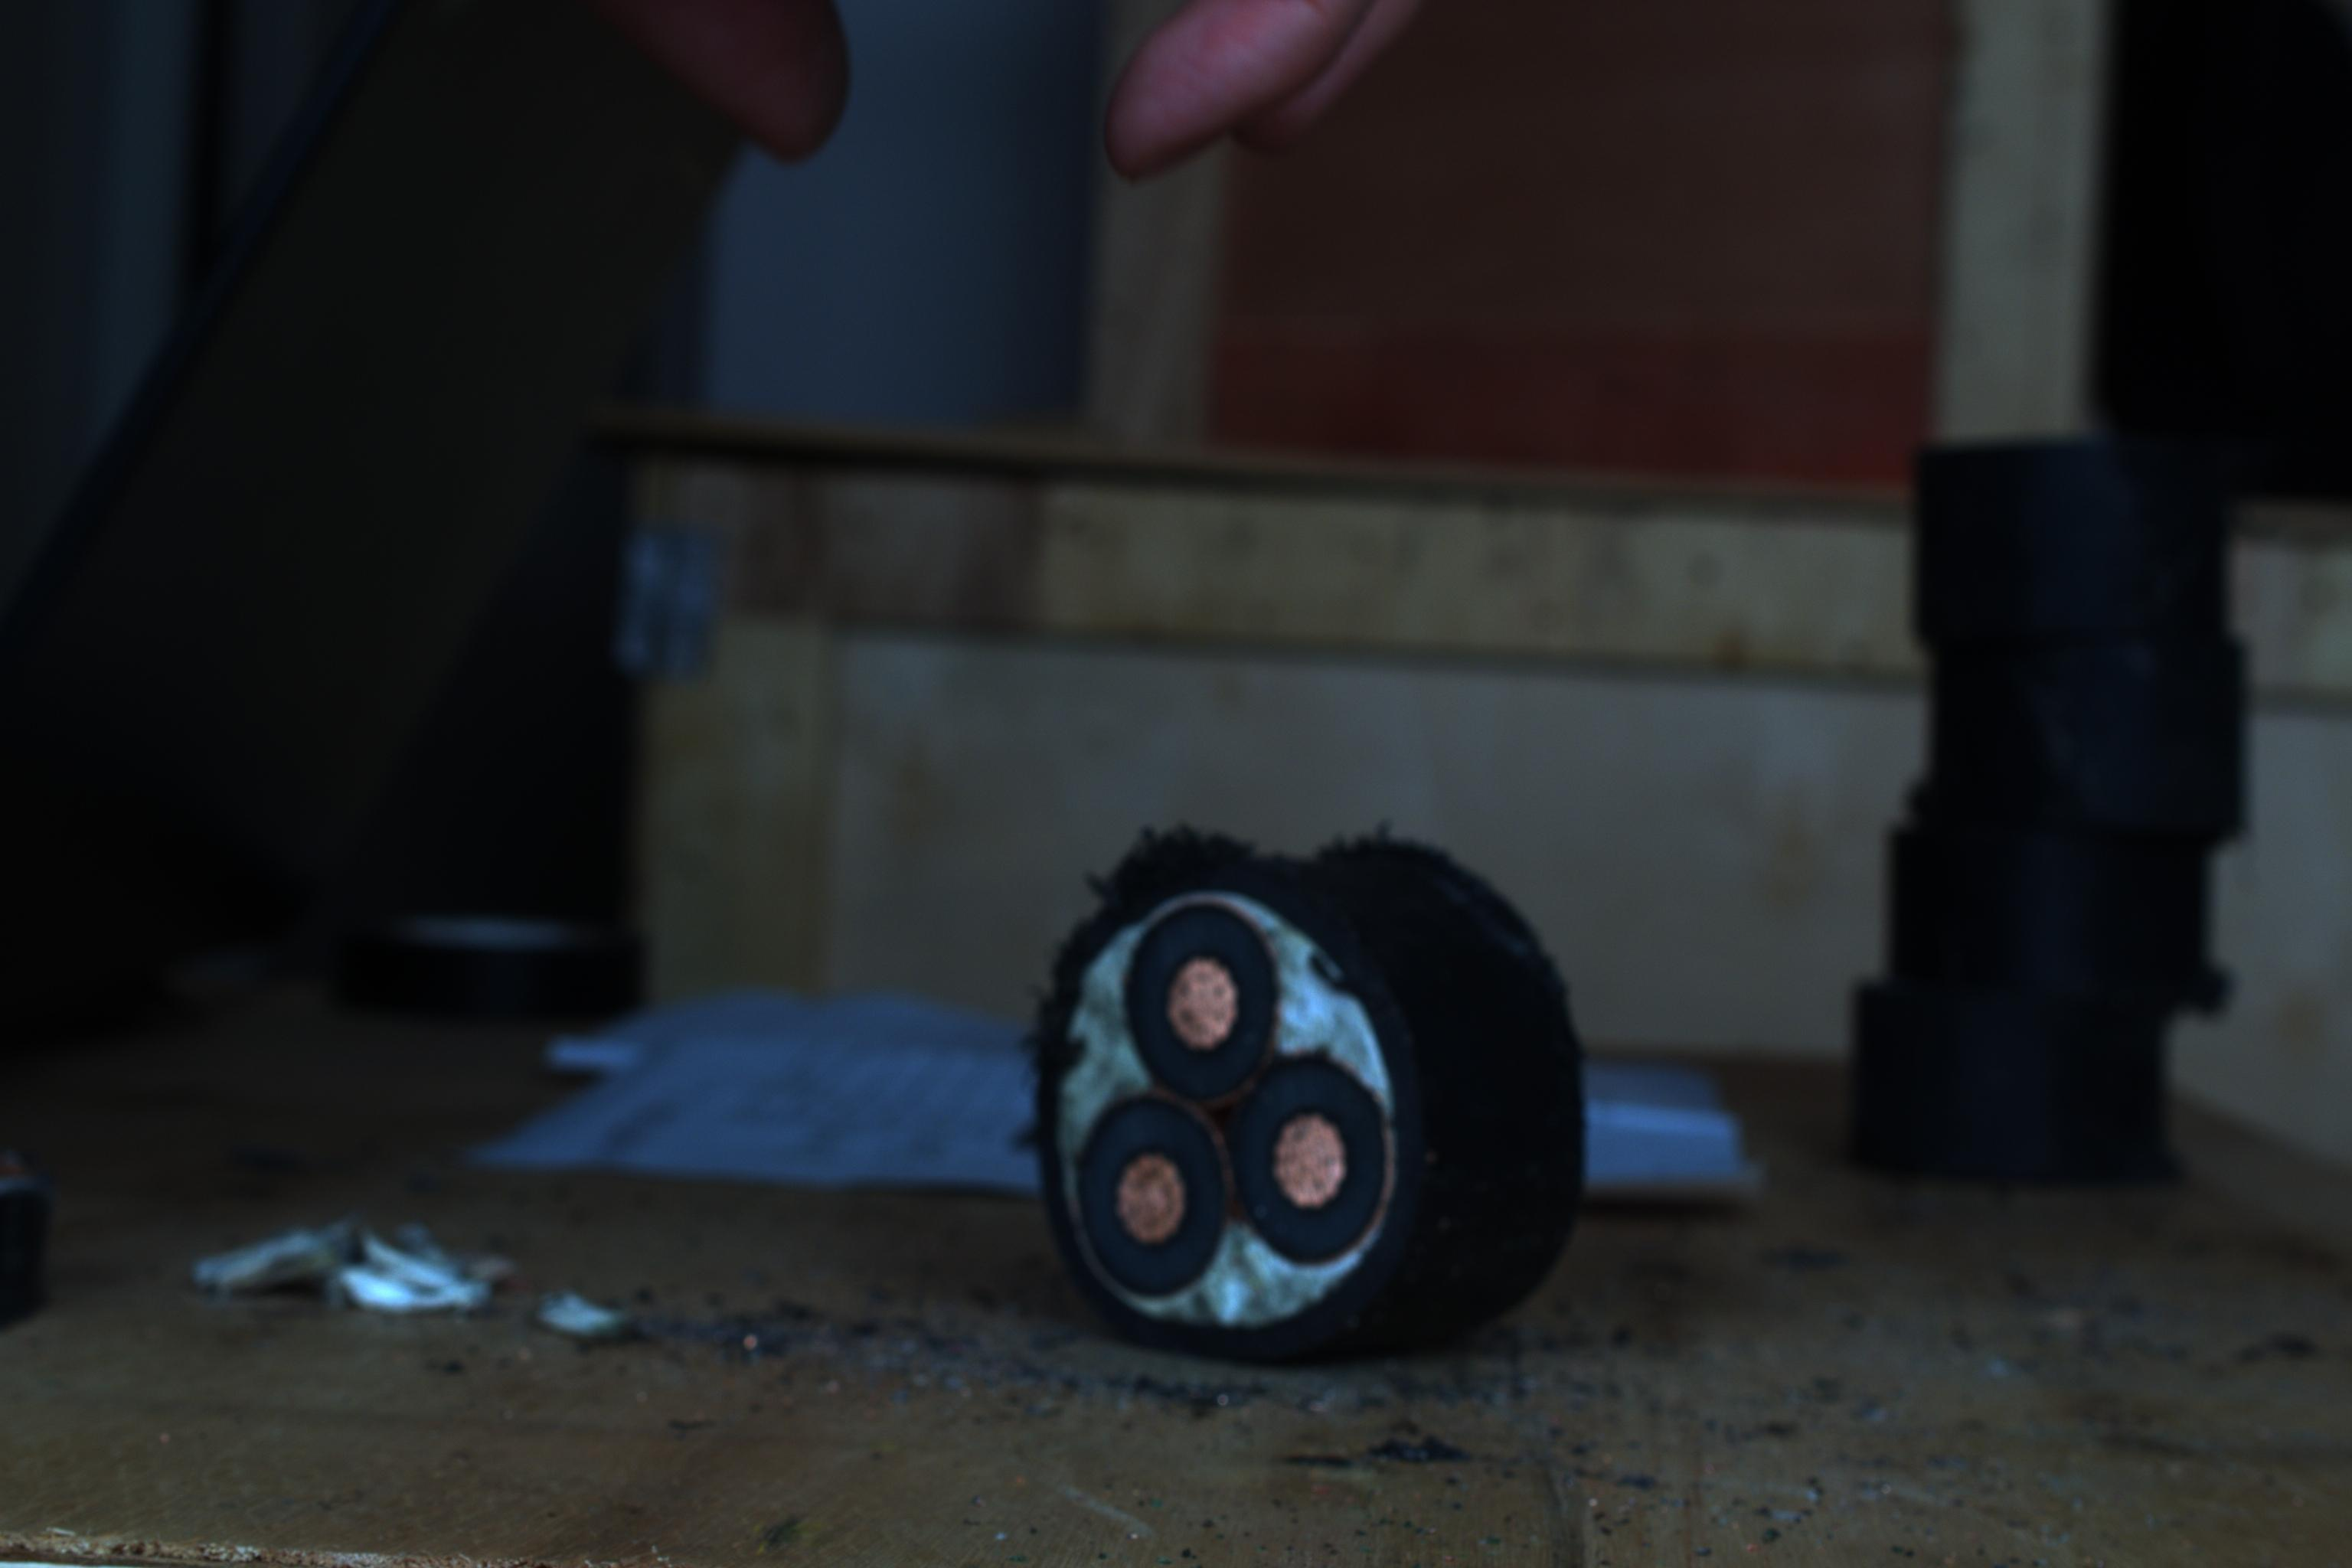YJV_8.7_10kV_3x70: (1013, 850, 1414, 1339)
